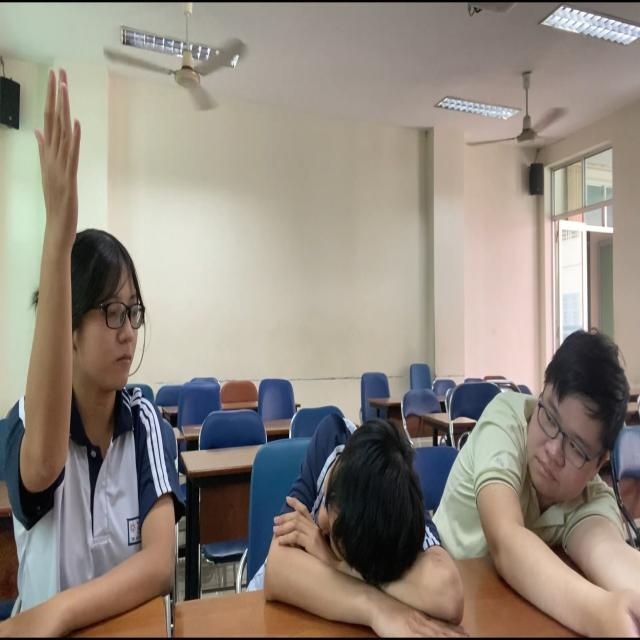raise_hand: (5, 34, 211, 640)
sleep: (240, 361, 480, 640), (451, 300, 640, 640)
